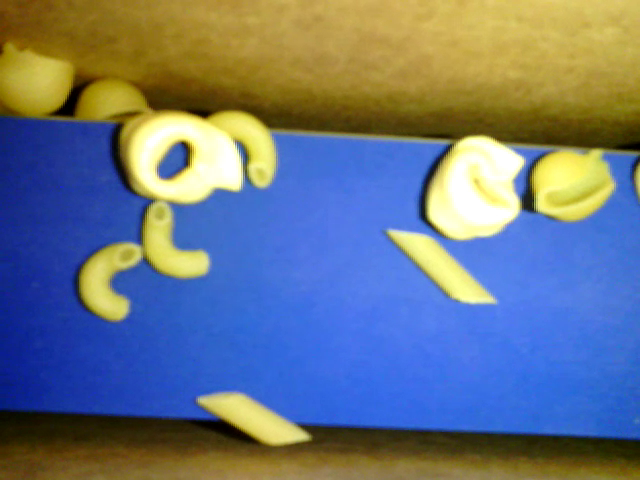elbow: (206, 112, 275, 189), (141, 202, 208, 279), (78, 243, 141, 317)
penne: (386, 228, 496, 304), (197, 393, 309, 447)
shell: (531, 148, 616, 223), (1, 42, 74, 115), (76, 79, 153, 120)
tortellini: (120, 110, 243, 204), (425, 135, 524, 239)
